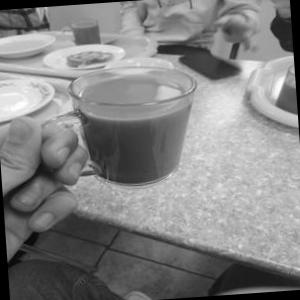coffee: (52, 50, 218, 202)
